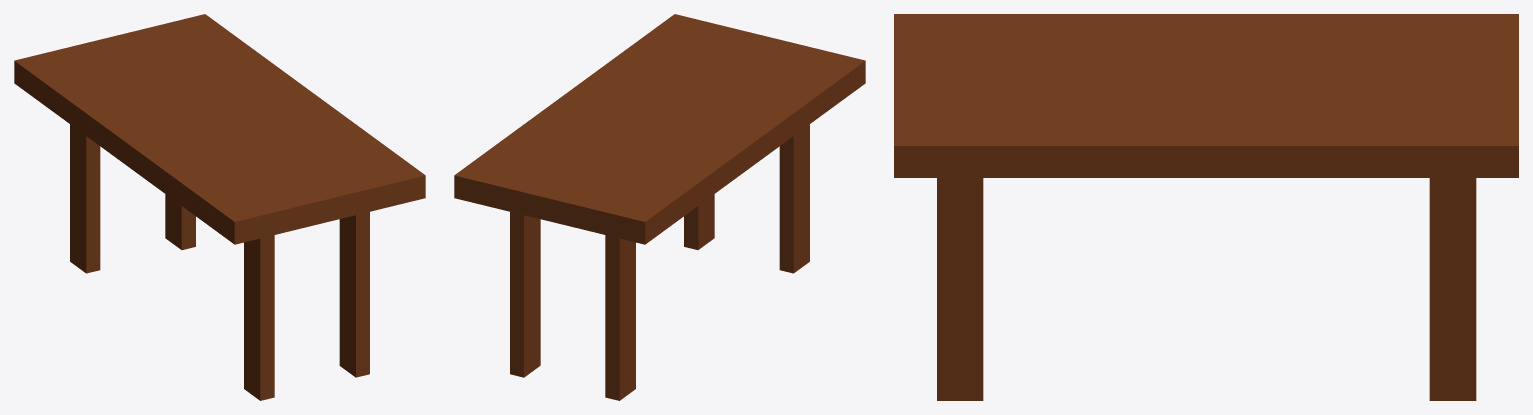
Rendered from Table.fbx.
The picture shows the model from 3 angles, left to right: view 1: azimuth 30°, elevation 25°; view 2: azimuth 150°, elevation 25°; view 3: azimuth 270°, elevation 25°; orthographic projection. The views are drawn at different scales.
Visible parts, largest first — view 1: Table; view 2: Table; view 3: Table.
Part boxes in pixels (box(x1,y1,x2,y2)): Table: box(14, 14, 425, 400); Table: box(454, 14, 865, 400); Table: box(894, 14, 1518, 400).
Bounding box in the file's own units: 0.5 × 1 × 0.5.
